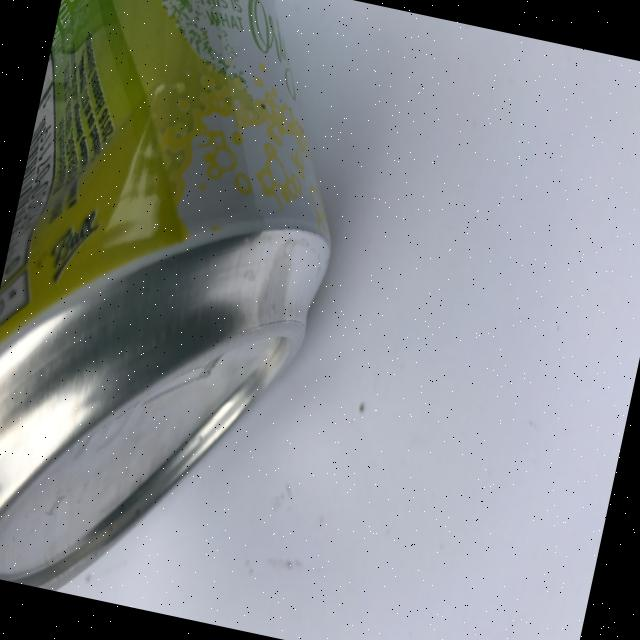metal: (0, 0, 383, 631)
